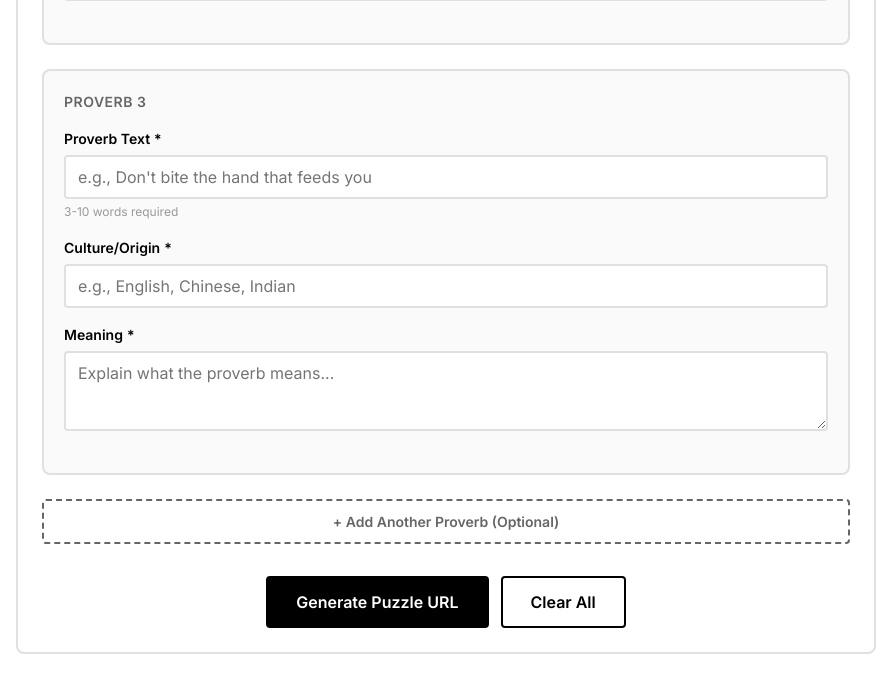
Test: PuzzleBuilder › shows error when generating with empty fields
(page scrolled)
Click the button "Generate Puzzle URL" at (377, 602), box [266,576,489,628]
(page scrolled)
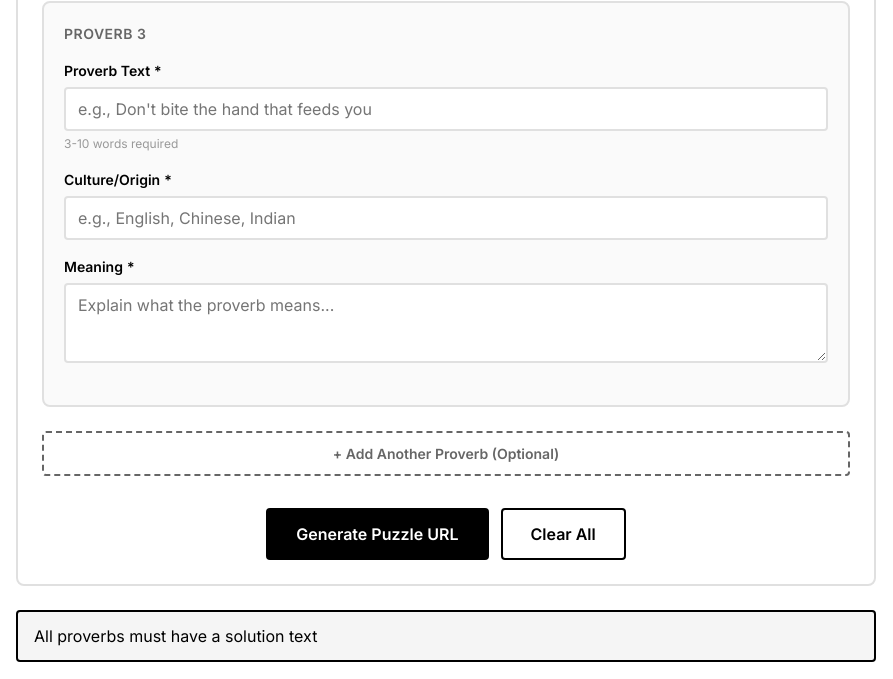
Expected: the text "All proverbs must have a solution text" is shown, [16,610,876,662]
